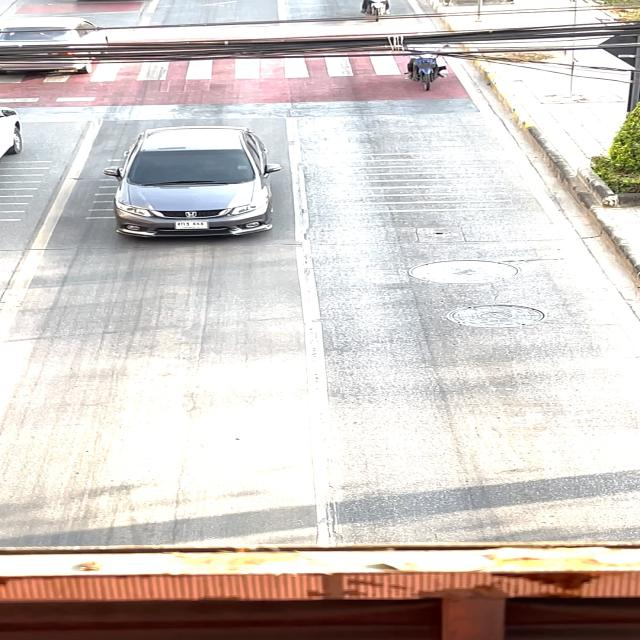car: (87, 114, 296, 254)
